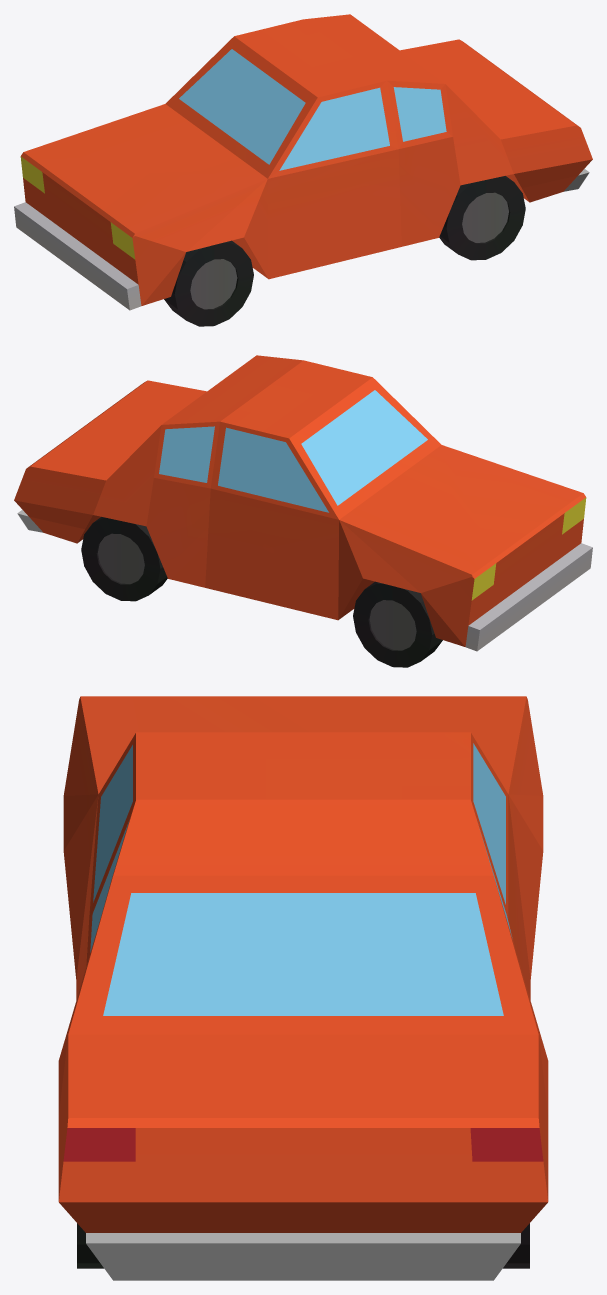
File: Car.fbx
3 views of the same model, one above another, from view 1: azimuth 30°, elevation 25°; view 2: azimuth 150°, elevation 25°; view 3: azimuth 270°, elevation 25° (orthographic). The views are drawn at different scales.
Visible parts, largest first — view 1: CarBodyColor, CarBody, CarTires; view 2: CarBodyColor, CarBody, CarTires; view 3: CarBodyColor, CarBody, CarTires.
Boxes of the visible parts, x1,y1,x2,y2 form: CarBodyColor: (21, 14, 592, 305); CarBody: (14, 49, 589, 310); CarTires: (164, 176, 525, 326); CarBodyColor: (14, 355, 585, 646); CarBody: (17, 390, 592, 651); CarTires: (81, 517, 442, 667); CarBodyColor: (58, 696, 548, 1232); CarBody: (63, 743, 543, 1280); CarTires: (77, 1223, 529, 1268).
Bounding box in the file's own units: 279 × 109 × 127.
